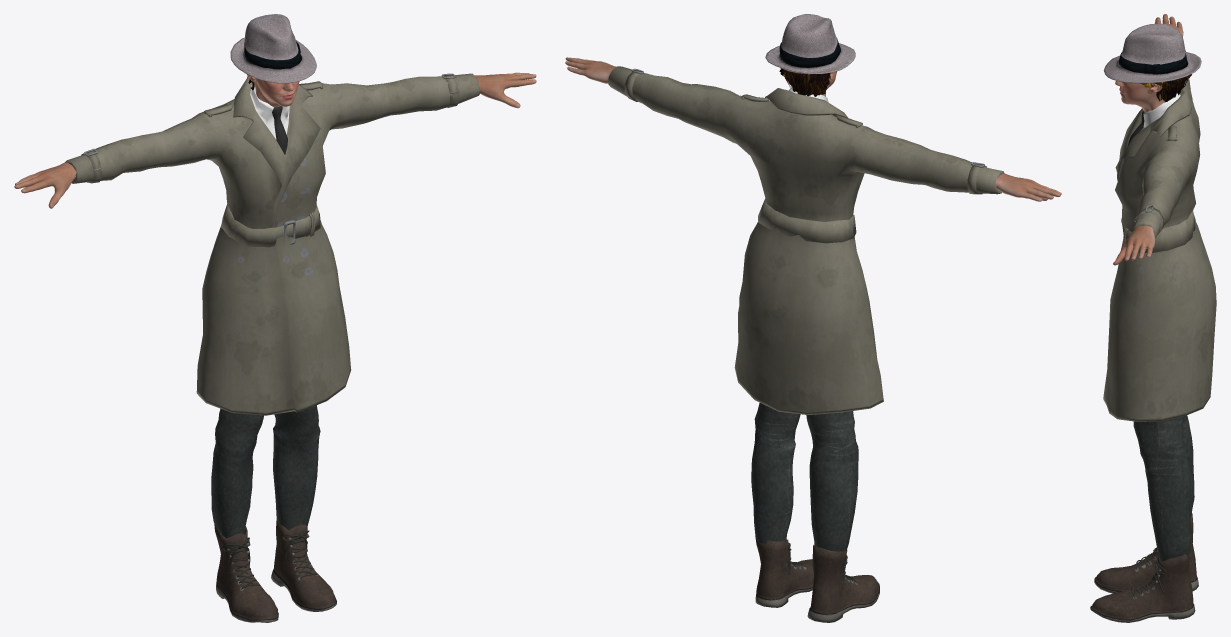
The model's file is GraceCoatHat-OBJ.obj.
The picture shows the model from 3 angles, left to right: view 1: azimuth 30°, elevation 25°; view 2: azimuth 150°, elevation 25°; view 3: azimuth 270°, elevation 25°; orthographic projection.
Parts seen in each view (by area): view 1: Tops, Bottoms, Shoes, Hats, Body; view 2: Tops, Bottoms, Shoes, Hats, Body, Hair; view 3: Tops, Bottoms, Shoes, Hats, Body, Hair.
Part boxes in pixels (left/top/right/bottom): Tops: left=65, top=73, right=480, bottom=415; Bottoms: left=211, top=405, right=320, bottom=553; Shoes: left=214, top=517, right=336, bottom=622; Hats: left=230, top=14, right=316, bottom=83; Body: left=14, top=72, right=536, bottom=208; Tops: left=608, top=66, right=1004, bottom=414; Bottoms: left=751, top=403, right=858, bottom=567; Shoes: left=755, top=536, right=879, bottom=622; Hats: left=765, top=14, right=855, bottom=74; Body: left=565, top=57, right=1061, bottom=201; Hair: left=779, top=68, right=830, bottom=96; Tops: left=1103, top=50, right=1216, bottom=421; Bottoms: left=1133, top=415, right=1194, bottom=561; Shoes: left=1090, top=513, right=1198, bottom=622; Hats: left=1103, top=23, right=1201, bottom=83; Body: left=1113, top=14, right=1183, bottom=265; Hair: left=1138, top=62, right=1191, bottom=102.
Size of the model in its own units: 176 by 192 by 38.28.
6 materials, 6 textured.
